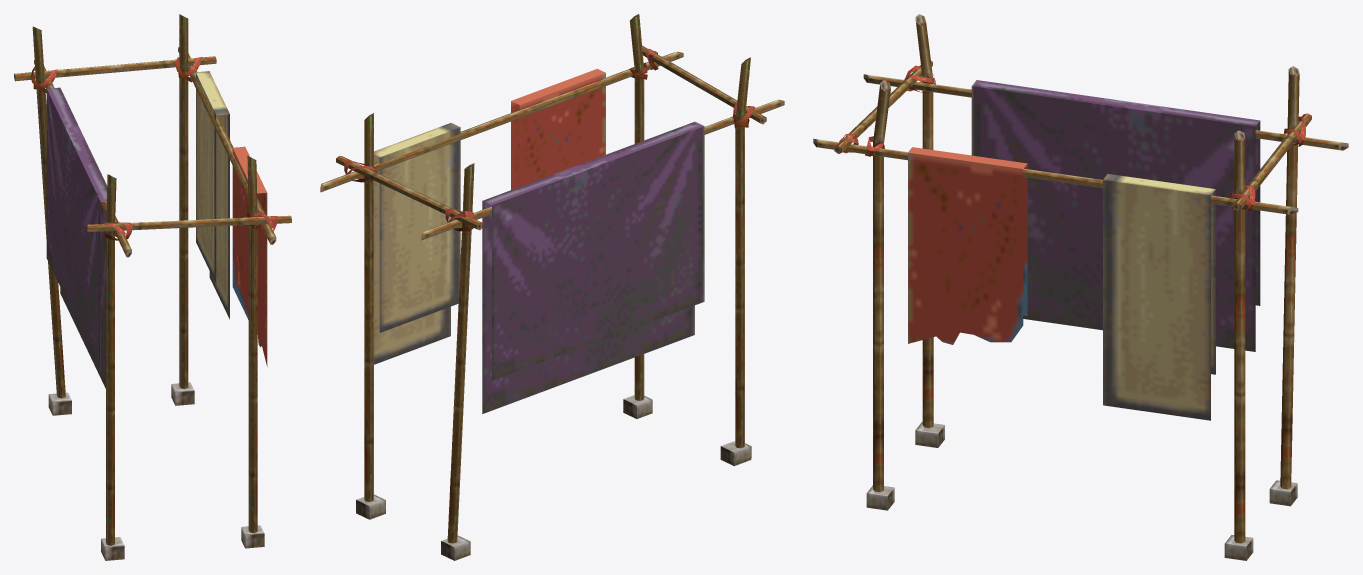
Rendered from jd_shaibeizi_1.FBX.
3 views of the same model, side by side, from view 1: azimuth 30°, elevation 25°; view 2: azimuth 150°, elevation 25°; view 3: azimuth 270°, elevation 25° (orthographic). The views are drawn at different scales.
Visible parts, largest first — view 1: jd_shaibeizi_1; view 2: jd_shaibeizi_1; view 3: jd_shaibeizi_1.
Boxes of the visible parts, box(x1,y1,x2,y2) form: jd_shaibeizi_1: box(14, 14, 291, 560); jd_shaibeizi_1: box(320, 14, 784, 560); jd_shaibeizi_1: box(813, 14, 1348, 560).
Bounding box in the file's own units: 134 × 183 × 210.
